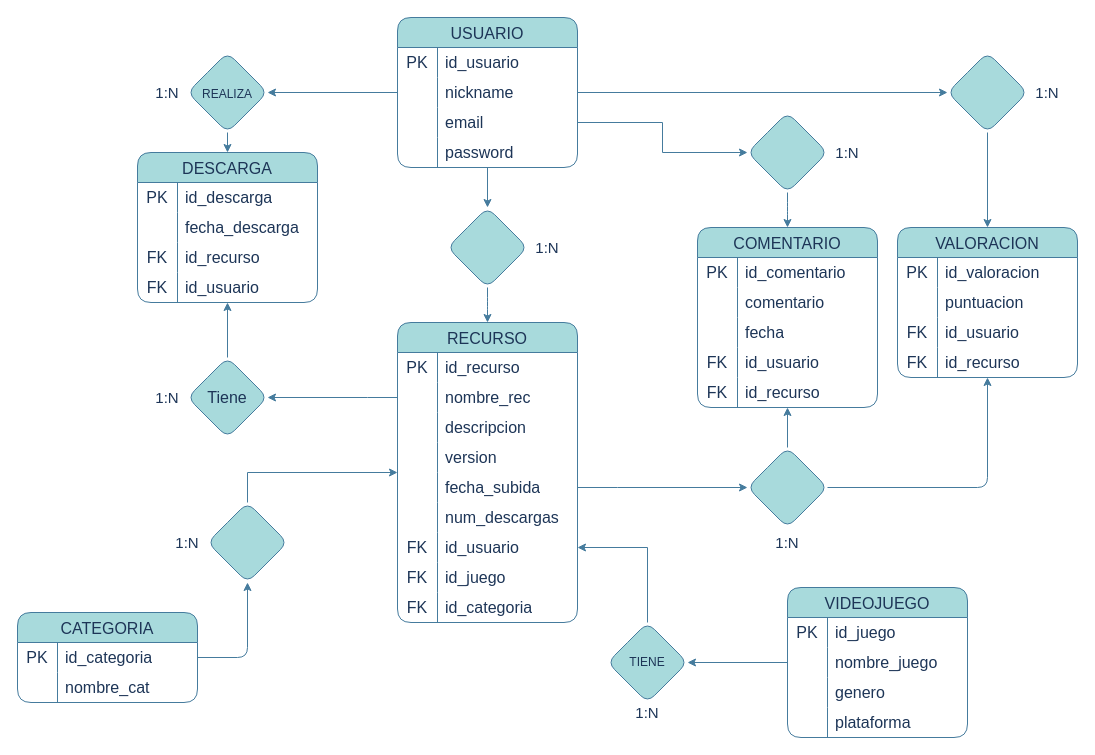
Image size: 1095x755. Some labels were removed from this diagram. Each missing label, with the centre of its shape:
"CLASIFICA" belongs at point 247,542.
"ESCRIBE" belongs at point 787,152.
"PONE" belongs at point 987,92.
"RECIBE" belongs at point 787,487.
"SUBE" belongs at point 487,247.
